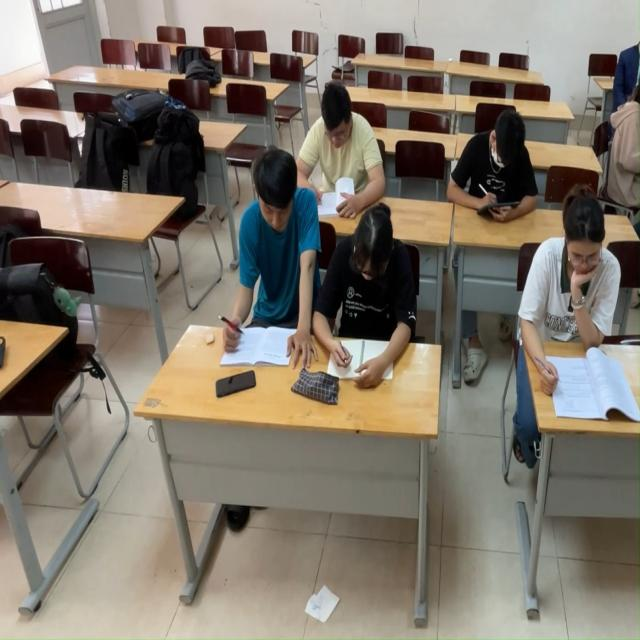read: (524, 206, 640, 422), (224, 131, 313, 387), (314, 207, 416, 407), (448, 109, 561, 221), (297, 88, 393, 208)
